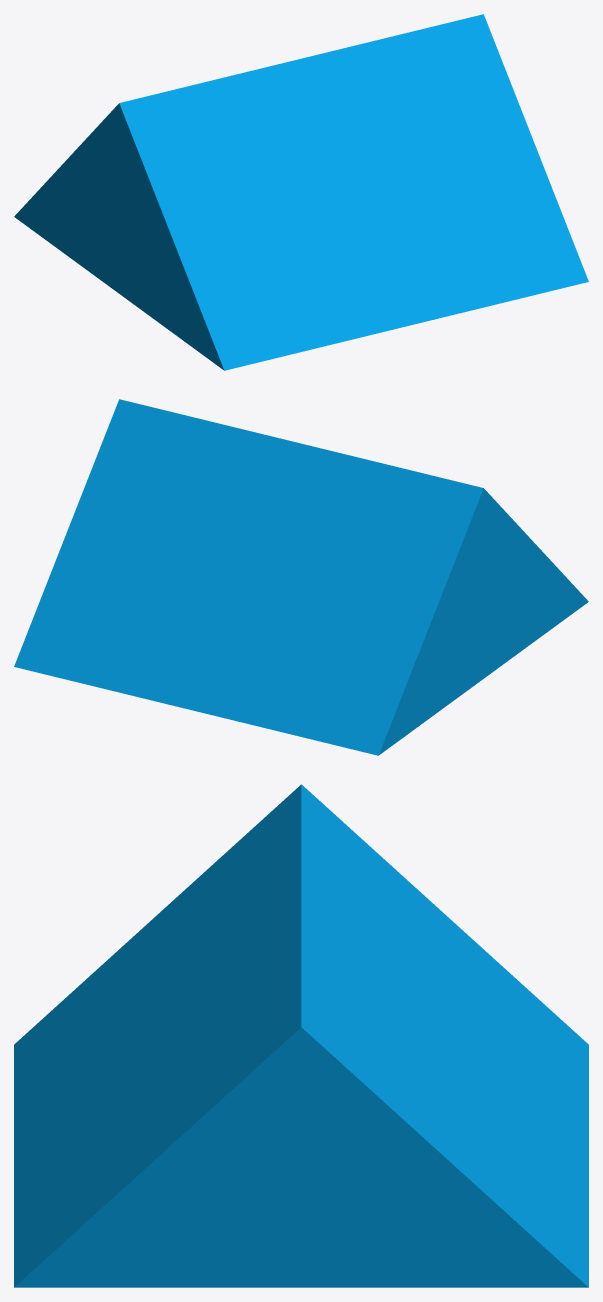
File: WEDGE.glb
3 views of the same model, one above another, from view 1: azimuth 30°, elevation 25°; view 2: azimuth 150°, elevation 25°; view 3: azimuth 270°, elevation 25° (orthographic). The views are drawn at different scales.
Size of the model in its own units: 0.04 by 0.02 by 0.04.
